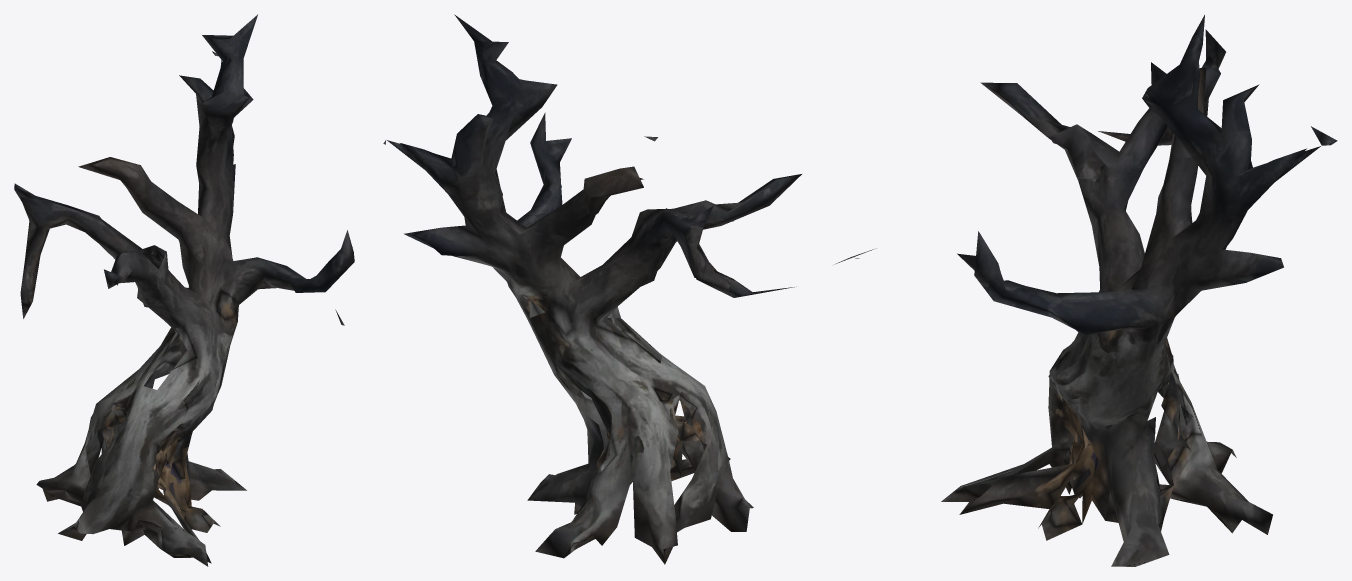
Rendered from haunted-tree-1.glb.
3 views of the same model, side by side, from view 1: azimuth 30°, elevation 25°; view 2: azimuth 150°, elevation 25°; view 3: azimuth 270°, elevation 25° (orthographic). The views are drawn at different scales.
Visible parts, largest first — view 1: geometry_0; view 2: geometry_0; view 3: geometry_0.
Part boxes in pixels (bbox=[...]): geometry_0: bbox=[14, 14, 354, 566]; geometry_0: bbox=[383, 14, 801, 564]; geometry_0: bbox=[835, 15, 1337, 566].
Size of the model in its own units: 0.5466 by 0.818 by 0.6571.
Materials: 1 (1 with a texture image).
